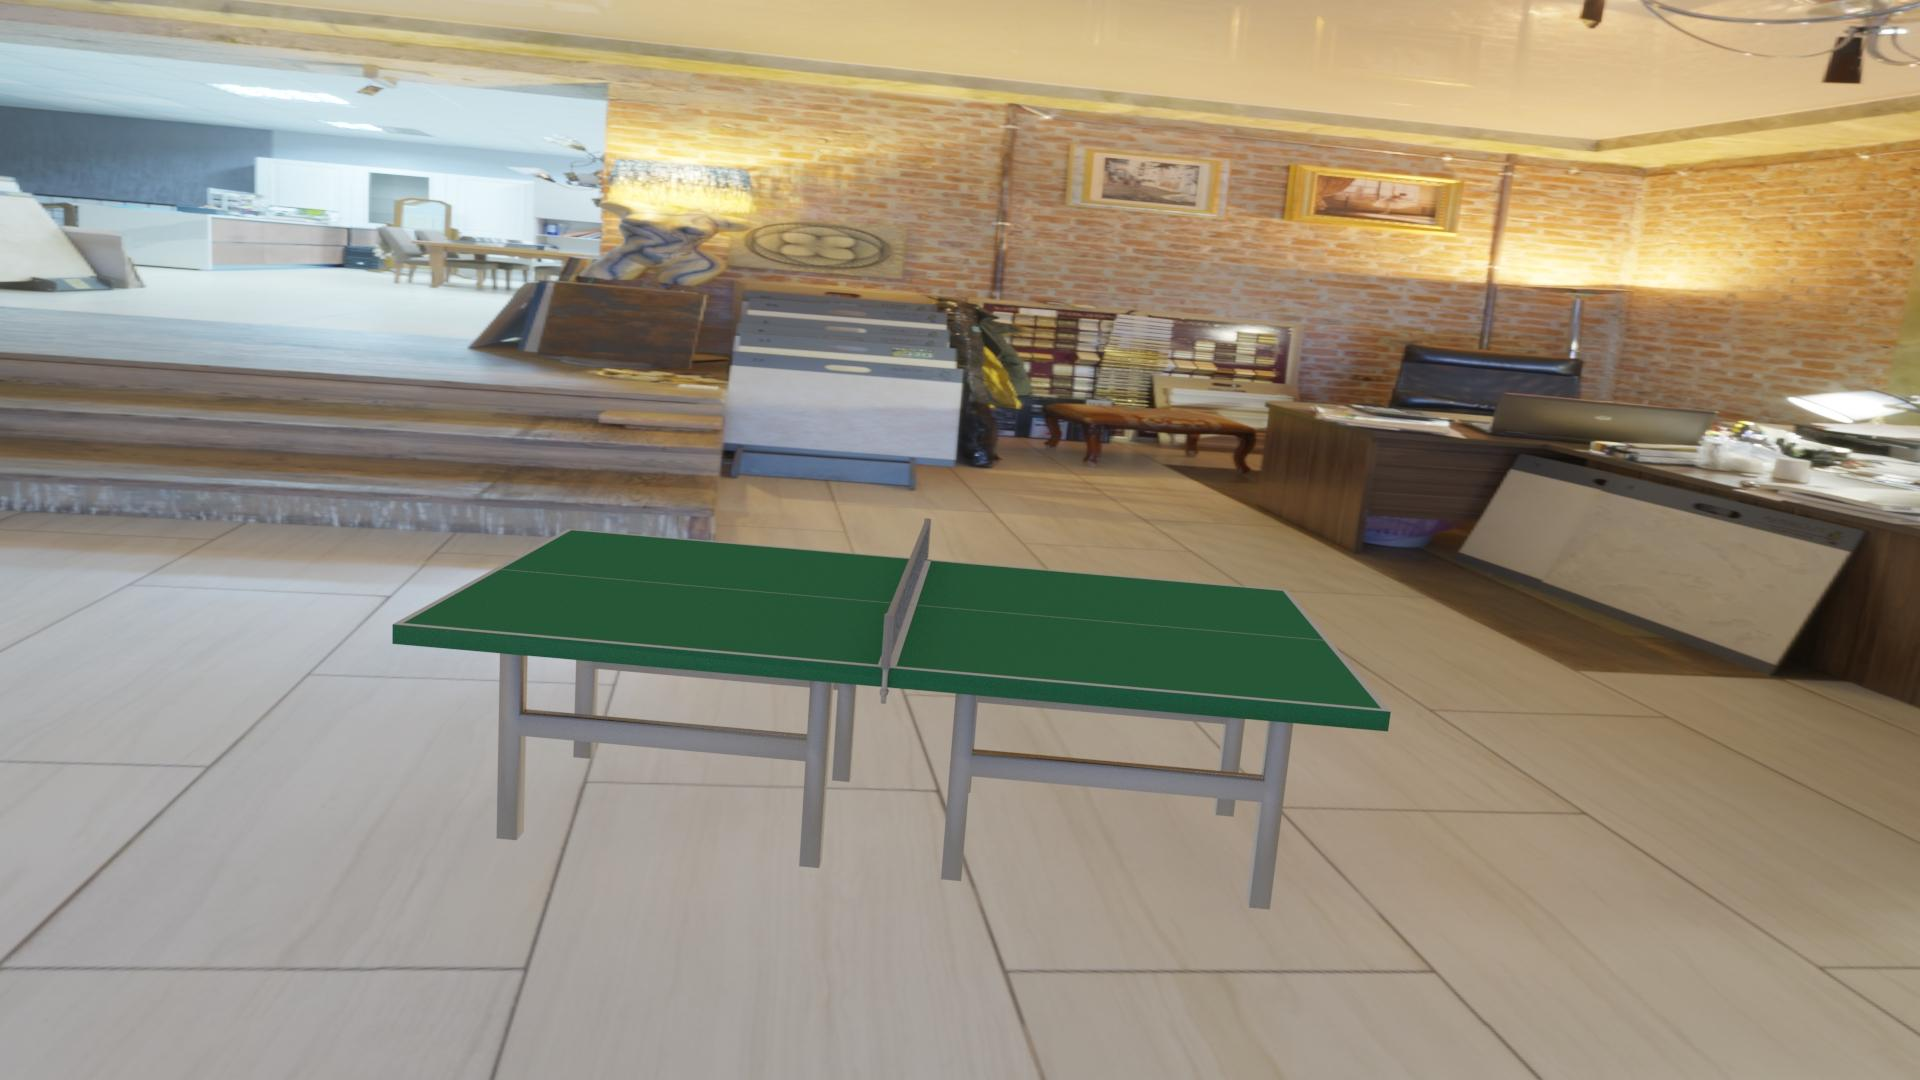table: (402, 530, 1382, 709)
